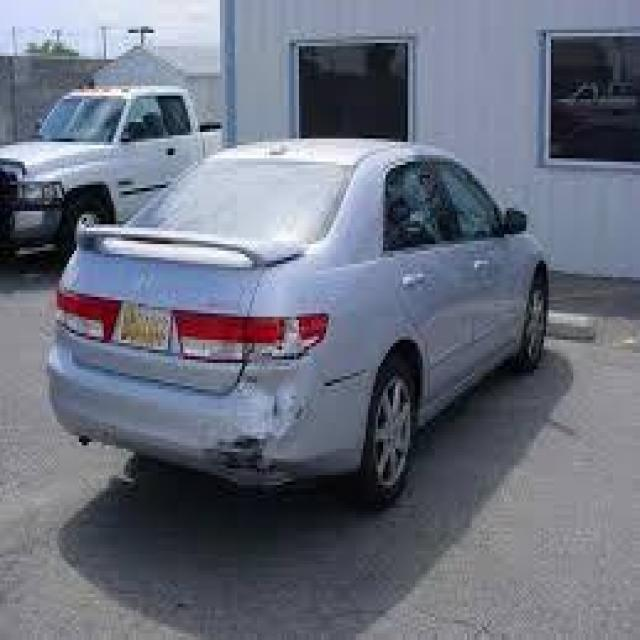damaged: (220, 356, 322, 484)
